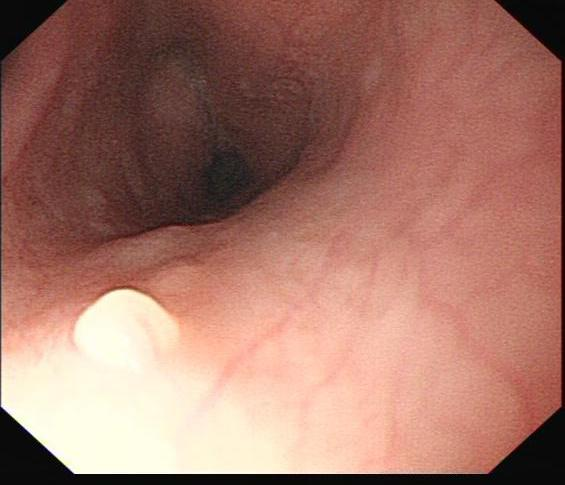Polyp: (71, 280, 197, 368)
